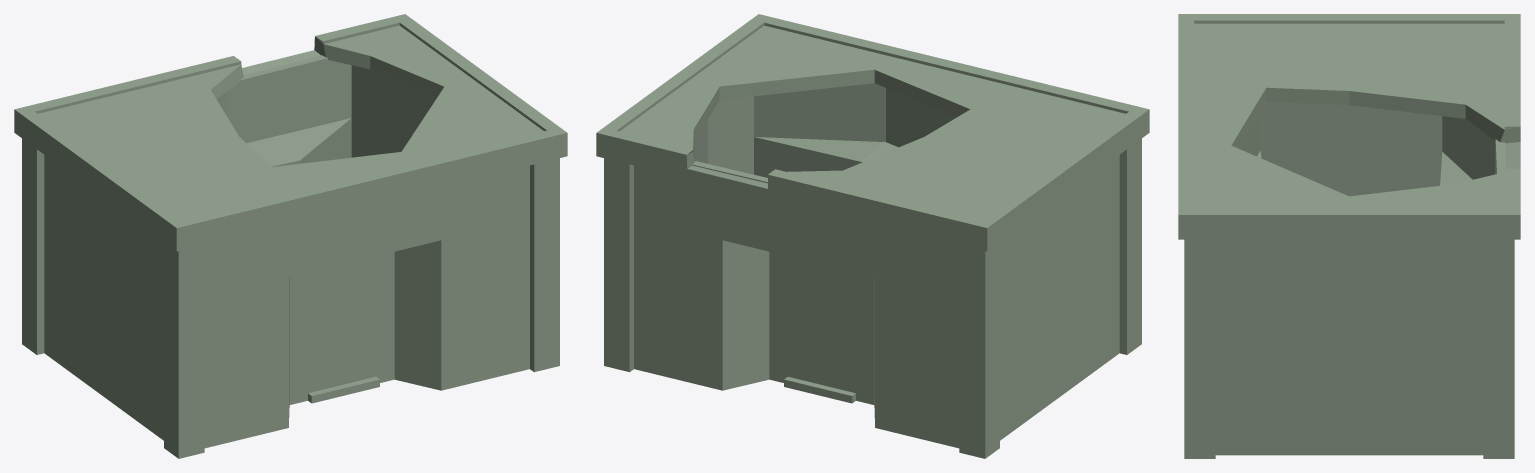
Rendered from store_damaged_01.fbx.
The picture shows the model from 3 angles, left to right: view 1: azimuth 30°, elevation 25°; view 2: azimuth 150°, elevation 25°; view 3: azimuth 270°, elevation 25°; orthographic projection. The views are drawn at different scales.
Visible parts, largest first — view 1: store_damaged_01; view 2: store_damaged_01; view 3: store_damaged_01.
Part boxes in pixels (<box>): store_damaged_01: <box>14,14,567,458</box>; store_damaged_01: <box>596,14,1149,458</box>; store_damaged_01: <box>1178,14,1520,458</box>.
Bounding box in the file's own units: 11.63 × 6.66 × 8.37.
